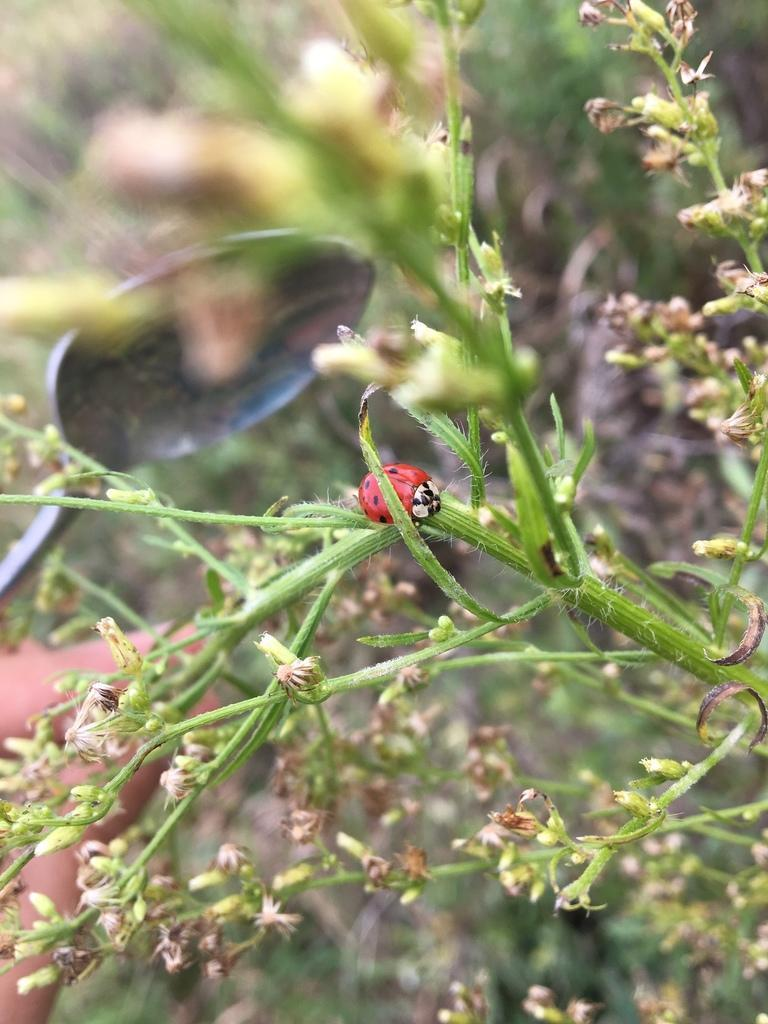ladybug: (357, 460, 445, 528)
